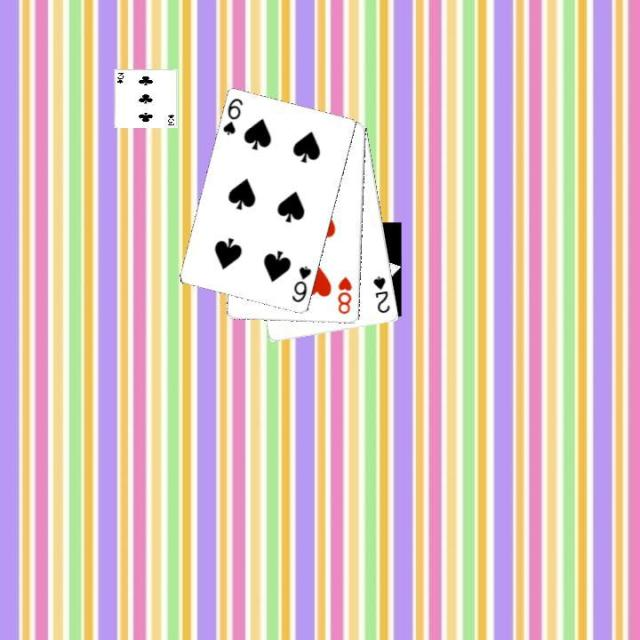2S: (370, 272, 392, 316)
6S: (288, 262, 313, 304), (220, 94, 244, 137)
8H: (334, 273, 354, 315)
